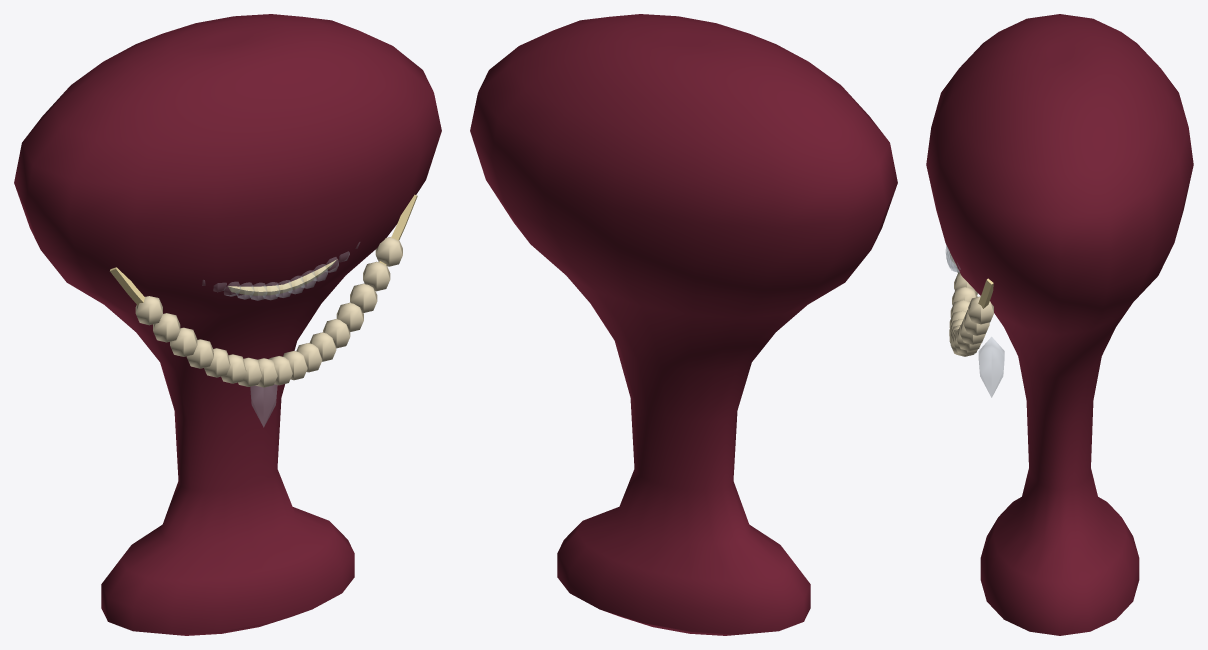
File: bust_necklace_stand.glb
3 views of the same model, side by side, from view 1: azimuth 30°, elevation 25°; view 2: azimuth 150°, elevation 25°; view 3: azimuth 270°, elevation 25° (orthographic). The views are drawn at different scales.
Parts seen in each view (by area): view 1: bust_necklace_stand; view 2: bust_necklace_stand; view 3: bust_necklace_stand.
Boxes of the visible parts, left/top/right/bottom form: bust_necklace_stand: left=14, top=14, right=441, bottom=635; bust_necklace_stand: left=470, top=14, right=897, bottom=635; bust_necklace_stand: left=926, top=14, right=1193, bottom=635.
Bounding box in the file's own units: 0.297 × 0.396 × 0.1782.
